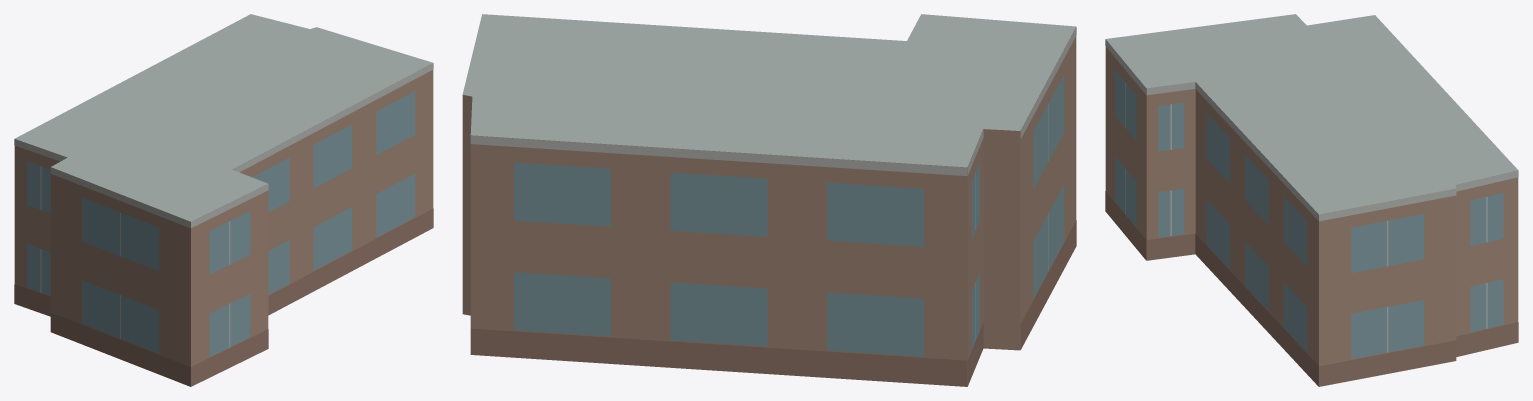
The model's file is survey-upis-32751719.glb.
3 views of the same model, side by side, from view 1: azimuth 30°, elevation 25°; view 2: azimuth 150°, elevation 25°; view 3: azimuth 270°, elevation 25° (orthographic). The views are drawn at different scales.
Visible parts, largest first — view 1: survey-upis-32751719.tmp; view 2: survey-upis-32751719.tmp; view 3: survey-upis-32751719.tmp.
Boxes of the visible parts, box(x1,y1,x2,y2) form: survey-upis-32751719.tmp: box(14, 14, 433, 386); survey-upis-32751719.tmp: box(462, 14, 1076, 386); survey-upis-32751719.tmp: box(1105, 14, 1518, 386).
Size of the model in its own units: 15.24 by 6.1 by 13.26.
